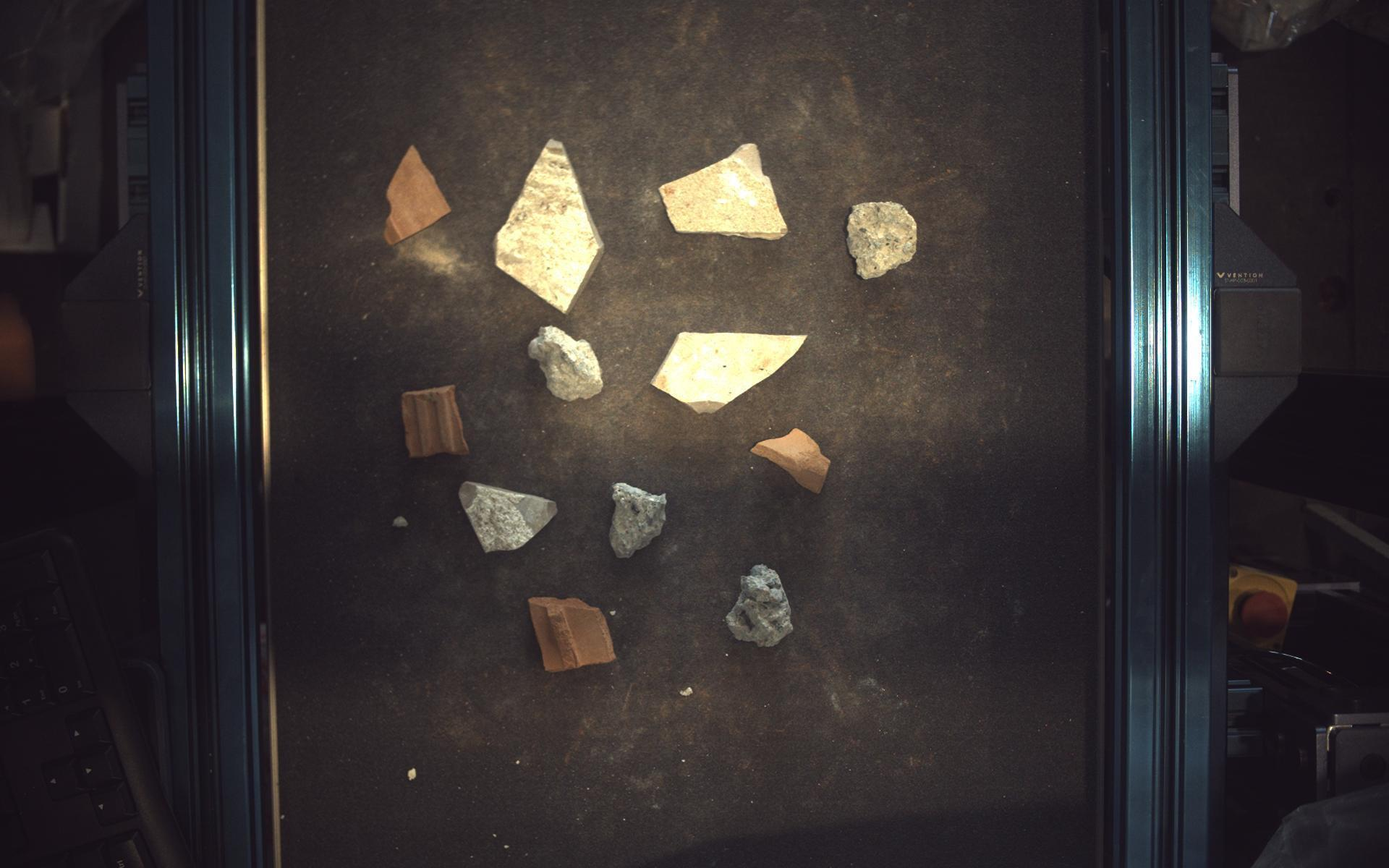brick: (383, 145, 451, 244), (530, 599, 616, 673), (753, 428, 832, 494), (402, 385, 470, 458)
concrete: (727, 565, 794, 648), (529, 326, 603, 401), (849, 202, 919, 279), (610, 482, 667, 558)
tile: (496, 138, 604, 312), (652, 332, 807, 413), (660, 142, 789, 239), (459, 482, 557, 553)
